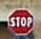stop: (6, 7, 34, 35)
